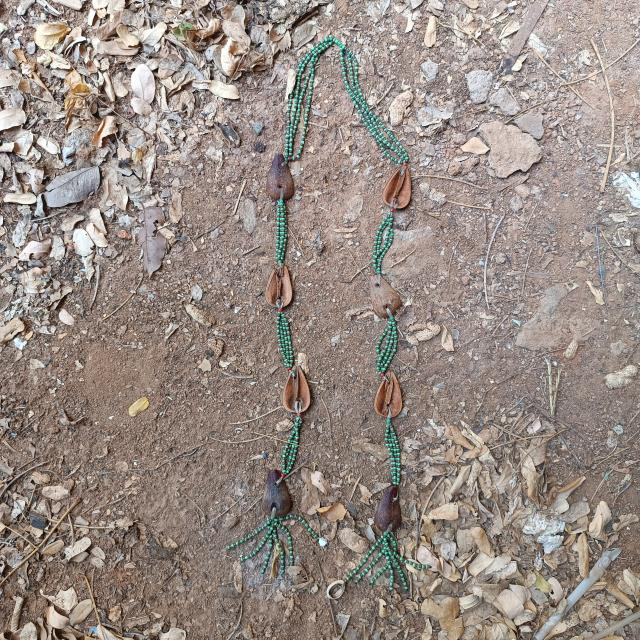facedown: (366, 265, 408, 324), (257, 466, 296, 525), (370, 479, 407, 538), (264, 147, 297, 204)
faceup: (380, 157, 420, 216), (262, 256, 299, 314), (280, 356, 314, 419), (372, 365, 406, 421)
